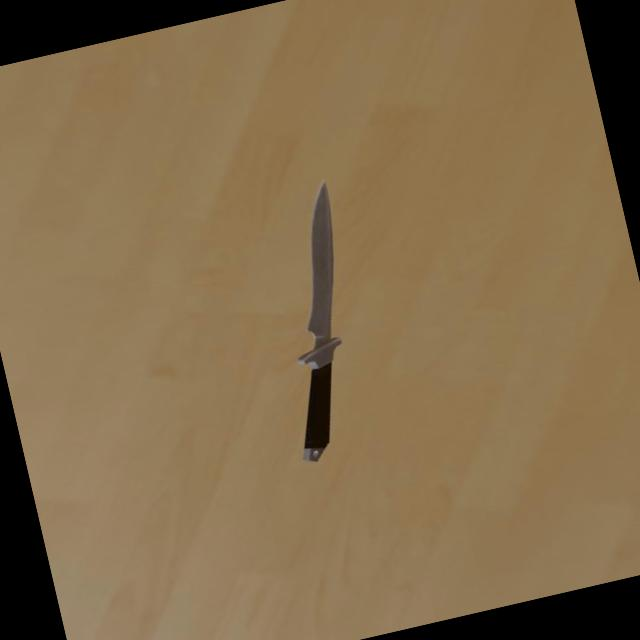knife: (282, 361, 352, 464)
